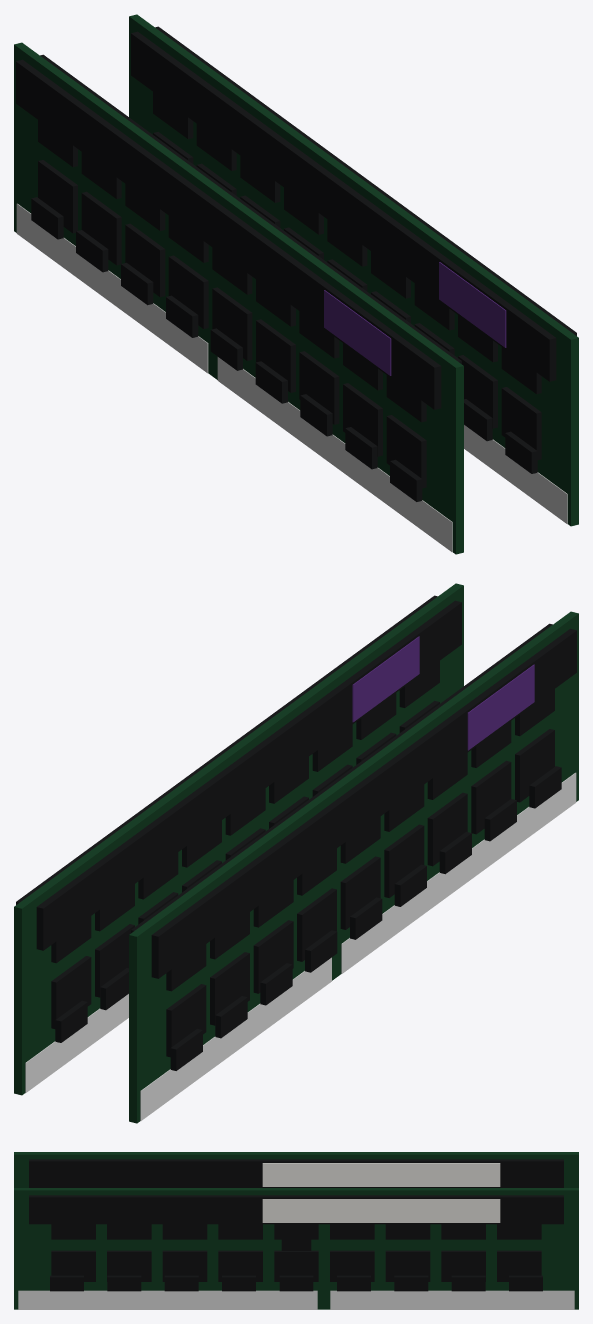
Rendered from hw_ram_ddr5_384gb.glb.
The picture shows the model from 3 angles, top to bottom: view 1: azimuth 30°, elevation 25°; view 2: azimuth 150°, elevation 25°; view 3: azimuth 270°, elevation 25°; orthographic projection. The views are drawn at different scales.
Visible parts, largest first — view 1: Stick_1, Body; view 2: Stick_1, Body; view 3: Body, Stick_1.
Part boxes in pixels (<box>): Stick_1: <box>14,42,463,554</box>; Body: <box>129,14,578,526</box>; Stick_1: <box>129,611,578,1123</box>; Body: <box>14,583,463,1095</box>; Body: <box>14,1188,578,1309</box>; Stick_1: <box>14,1152,578,1187</box>.
Size of the model in its own units: 0.0252 by 0.031 by 0.133.
